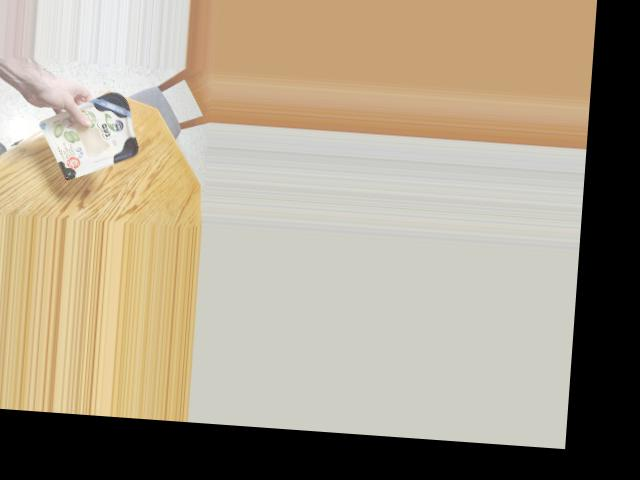cheese: (46, 82, 143, 179)
